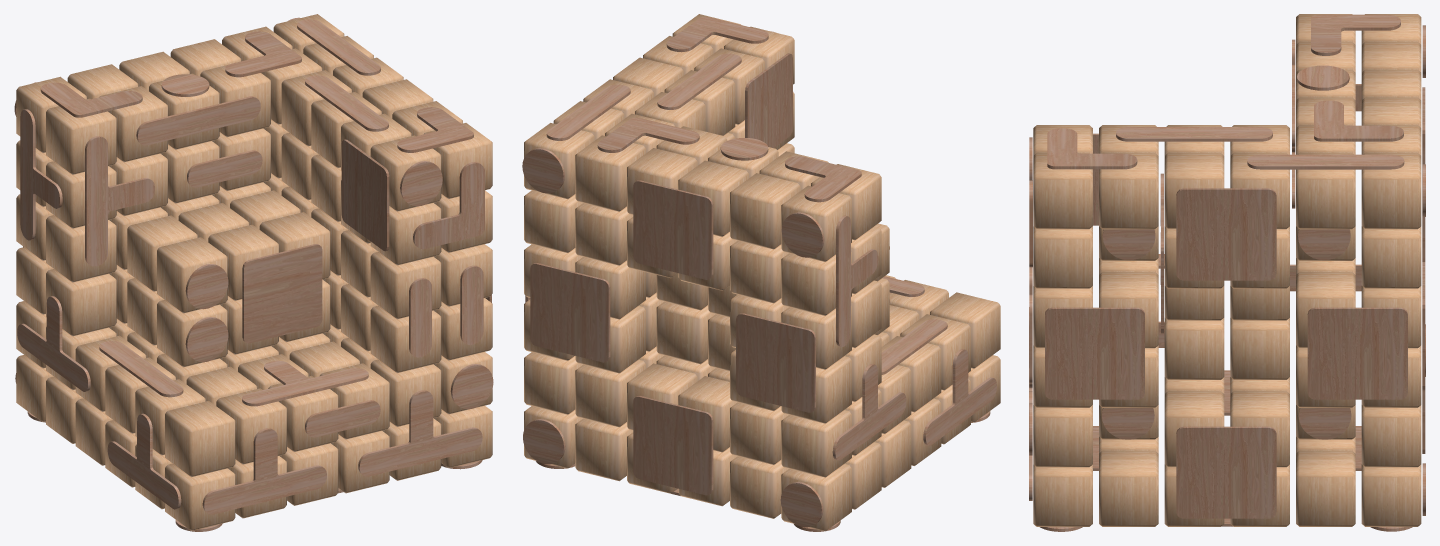
File: level_103.fbx
3 renders of one model, left to right at view 1: azimuth 30°, elevation 25°; view 2: azimuth 150°, elevation 25°; view 3: azimuth 270°, elevation 25°, orthographic. The views are drawn at different scales.
Parts seen in each view (by area): view 1: obj_obs_square.003, Cube.298, obj_obs_T.001, obj_obs_T.002, obj_obs_square.001, obj_obs_T.009, Cube.327, Cube.330, Cube.104, obj_obs_L.019, Cube.265, obj_obs_Y.002 (+98 smaller); view 2: obj_obs_square.007, obj_obs_square.009, obj_obs_square.010, obj_obs_square.008, Cube.288, obj_obs_square.001, Cube.333, Cube.141, Cube.137, Cube.336, Cube.140, Cube.287 (+72 smaller); view 3: obj_obs_square.002, obj_obs_square.004, obj_obs_square.005, obj_obs_square.006, Cube.080, Cube.059, Cube.092, Cube.064, Cube.057, Cube.085, Cube.091, Cube.087 (+60 smaller).
Boxes of the visible parts, <box> form: obj_obs_square.003: <box>242,244,322,343</box>; Cube.298: <box>165,401,235,477</box>; obj_obs_T.001: <box>202,428,326,514</box>; obj_obs_T.002: <box>358,390,482,476</box>; obj_obs_square.001: <box>341,139,389,251</box>; obj_obs_T.009: <box>85,136,154,266</box>; Cube.327: <box>46,269,116,336</box>; Cube.330: <box>46,98,116,174</box>; Cube.104: <box>370,252,441,319</box>; obj_obs_L.019: <box>413,162,484,249</box>; Cube.265: <box>157,237,227,313</box>; obj_obs_Y.002: <box>136,96,260,145</box>; obj_obs_square.007: <box>633,180,713,279</box>; obj_obs_square.009: <box>633,395,713,495</box>; obj_obs_square.010: <box>530,263,610,362</box>; obj_obs_square.008: <box>736,313,815,412</box>; Cube.288: <box>730,173,800,249</box>; obj_obs_square.001: <box>745,53,792,147</box>; Cube.333: <box>781,410,851,477</box>; Cube.141: <box>575,135,645,211</box>; Cube.137: <box>575,360,645,427</box>; Cube.336: <box>781,252,851,315</box>; Cube.140: <box>575,203,633,265</box>; Cube.287: <box>730,240,788,303</box>; obj_obs_square.002: <box>1176,188,1276,280</box>; obj_obs_square.004: <box>1307,307,1407,399</box>; obj_obs_square.005: <box>1176,426,1276,518</box>; obj_obs_square.006: <box>1045,307,1144,399</box>; Cube.080: <box>1296,450,1355,526</box>; Cube.059: <box>1099,450,1158,526</box>; Cube.092: <box>1361,152,1421,229</box>; Cube.064: <box>1099,152,1158,229</box>; Cube.057: <box>1033,152,1092,229</box>; Cube.085: <box>1296,152,1355,229</box>; Cube.091: <box>1361,226,1421,288</box>; Cube.087: <box>1361,464,1421,526</box>.
Size of the model in its own units: 13.27 by 13.33 by 13.28.
